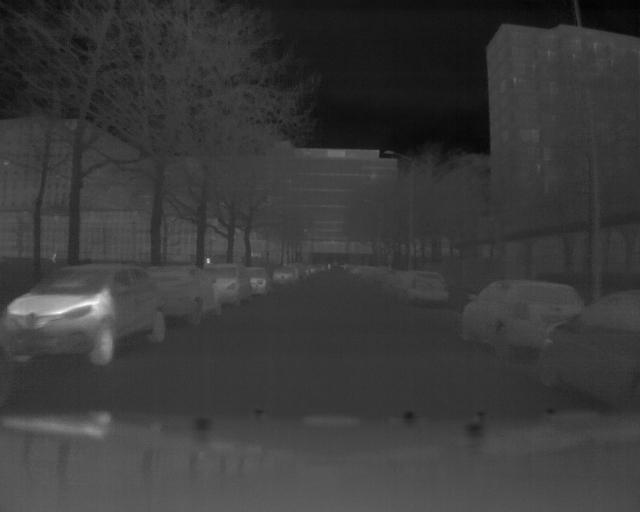car: (2, 258, 169, 363), (536, 278, 640, 404), (459, 276, 554, 358), (155, 261, 219, 326), (203, 260, 249, 310), (401, 267, 447, 309)
